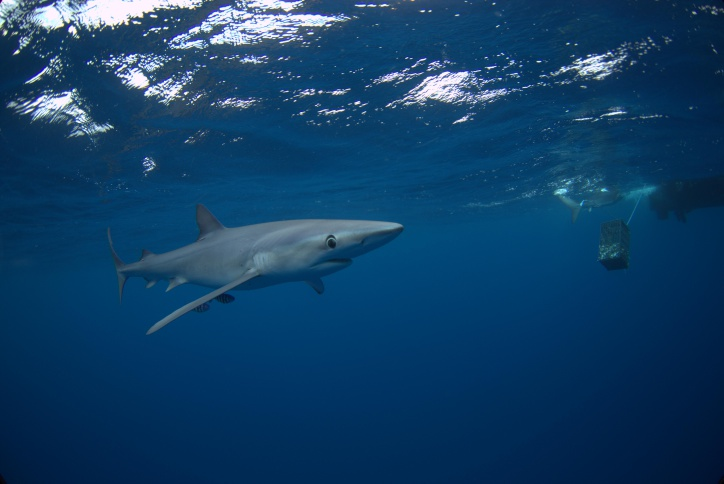Azul: (66, 190, 503, 395)
